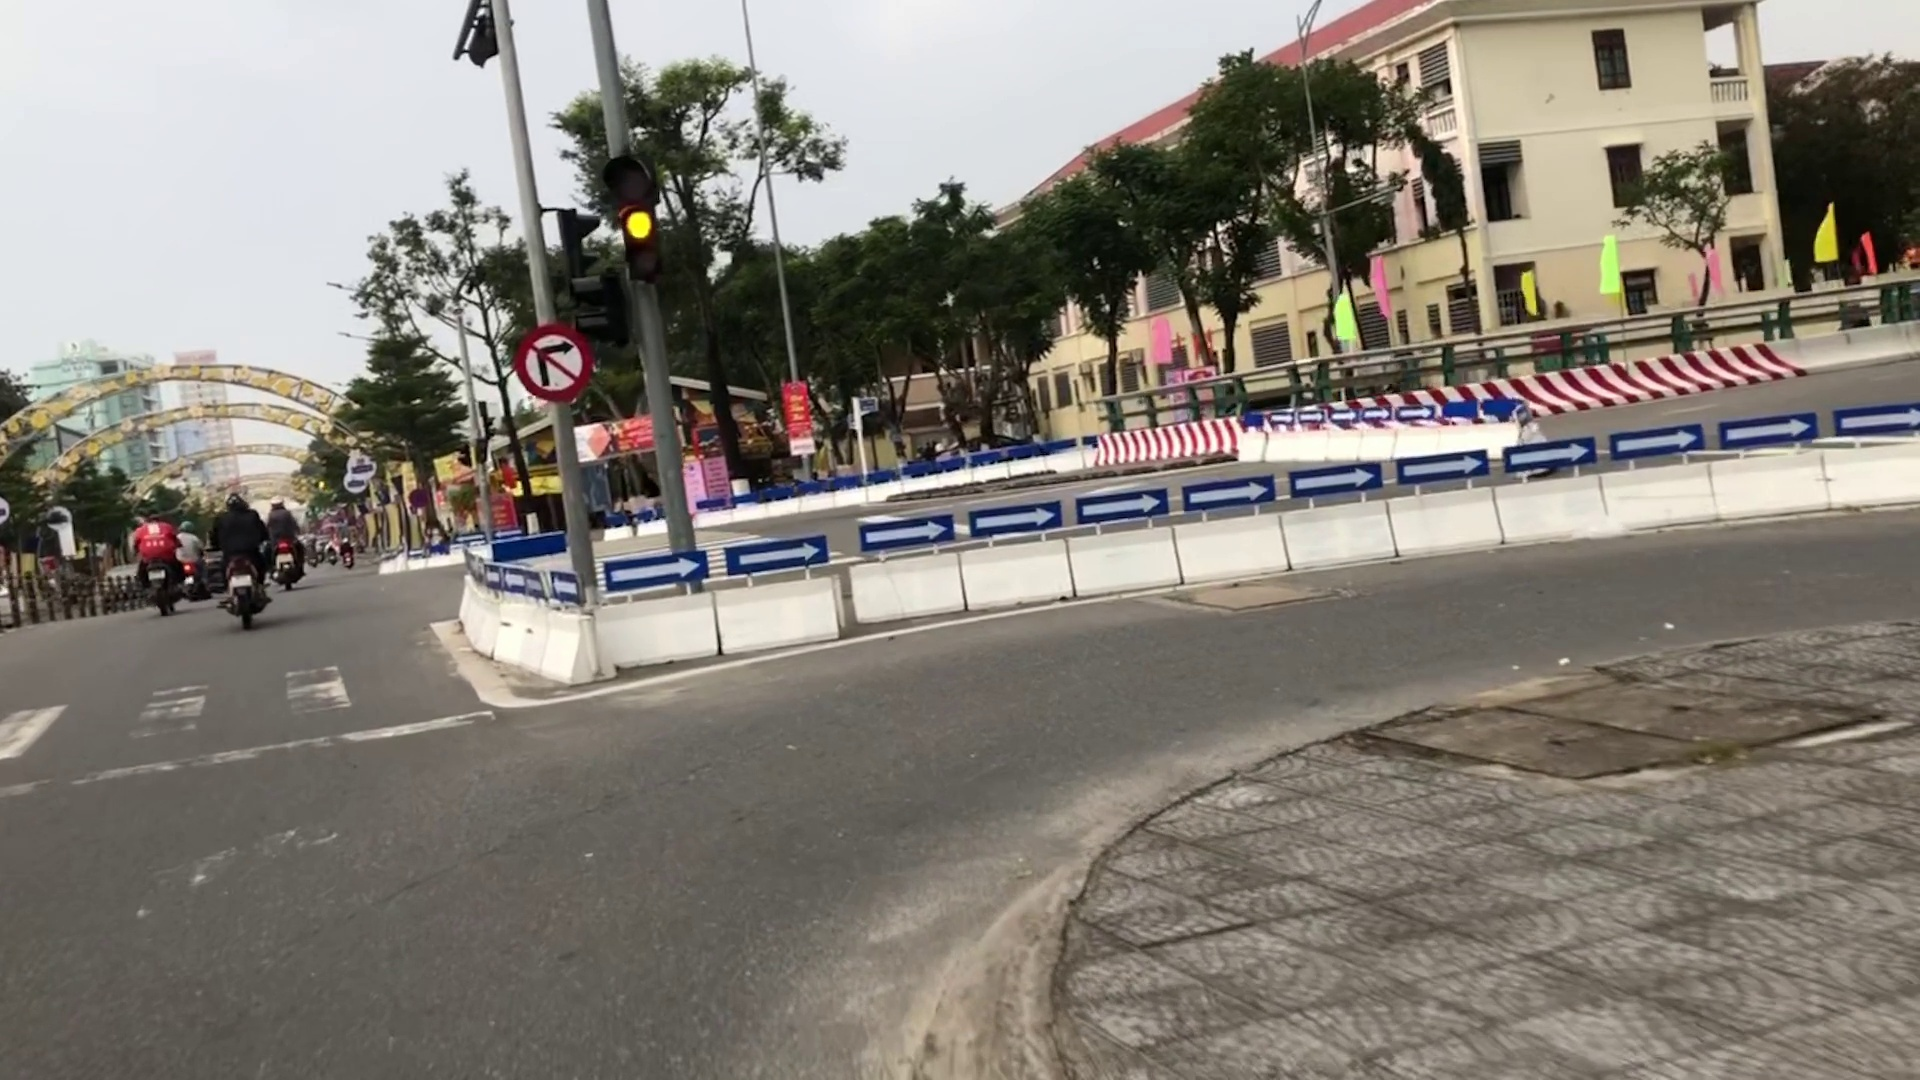Bien khac: (514, 324, 593, 402)
